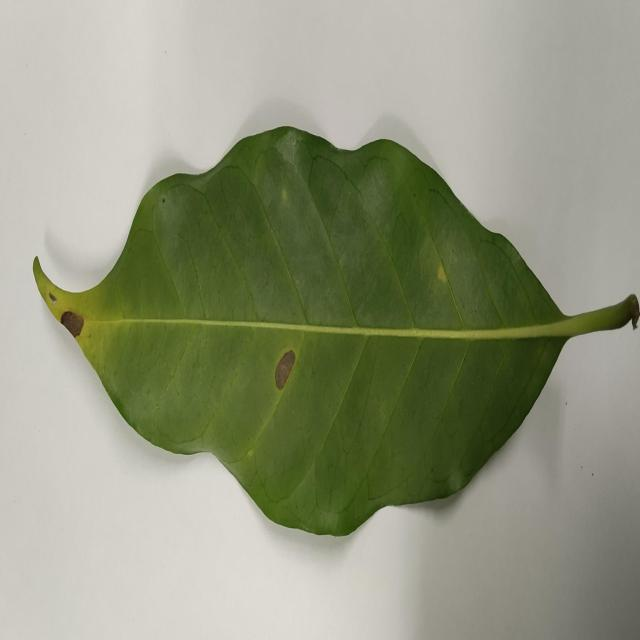Enfermedad-Mancha-de-hierro: (31, 126, 640, 539)
